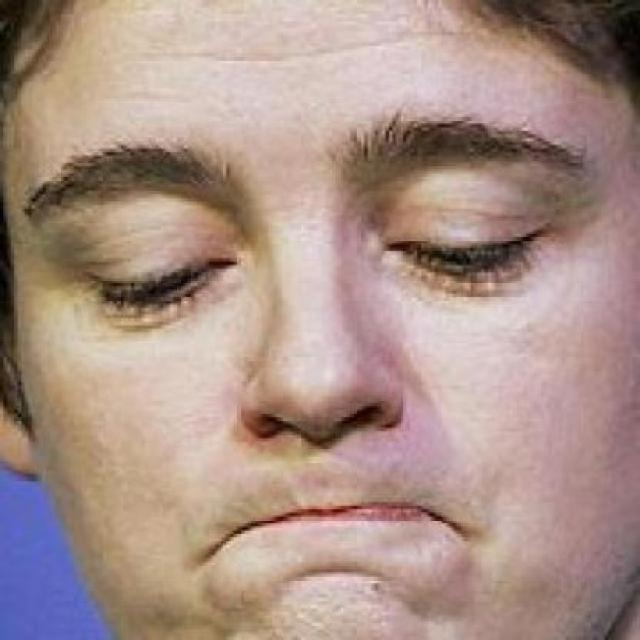drowsy: (384, 207, 544, 291), (87, 245, 239, 330)
